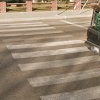crosswalk: (0, 21, 100, 100)
